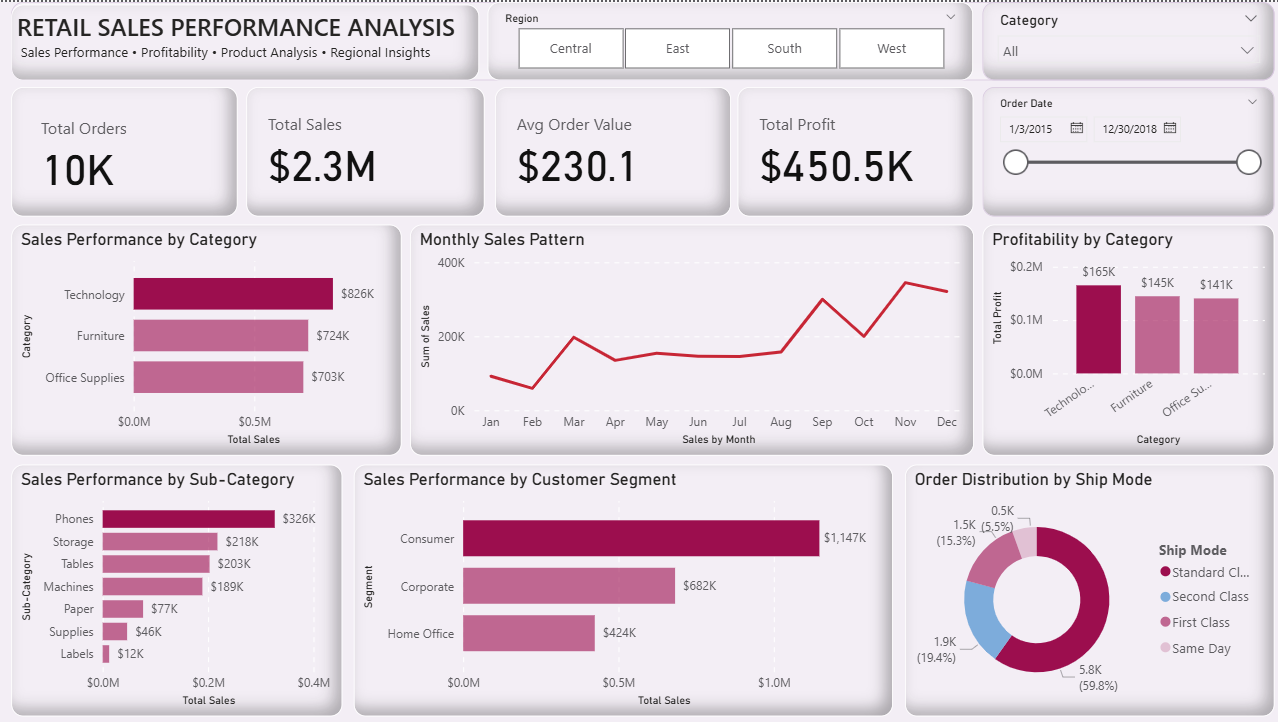

What the dashboard file says about the page in this screenshot:
{"tool":"powerbi","page":{"name":"Sales Overview","canvas":[1280,720],"ordinal":0},"visuals":[{"type":"clusteredBarChart","title":"Sales Performance by Category","fields":{"Category":["Cleaned_Data.Category"],"Y":["Cleaned_Data.Total Sales"]},"box":[11,222.6,390.1,231.1],"z":1000},{"type":"lineChart","title":"Monthly Sales Pattern","fields":{"Category":["Cleaned_Data.Sales by Month"],"Y":["Sum(Cleaned_Data.Sales)"]},"box":[409.6,222.6,563.7,231],"z":2000},{"type":"cardVisual","fields":{"Data":["Cleaned_Data.Total Sales"]},"box":[245.8,84.4,238.5,129.6],"z":3000},{"type":"cardVisual","fields":{"Data":["Cleaned_Data.Total Profit"]},"box":[737.4,84.4,236,129.6],"z":4000},{"type":"cardVisual","fields":{"Data":["Cleaned_Data.Orders"]},"box":[11,84.4,226.2,129.6],"z":5000},{"type":"cardVisual","fields":{"Data":["Cleaned_Data.Avg Order Value"]},"box":[495.2,84.4,236,129.6],"z":6000},{"type":"clusteredBarChart","title":"Sales Performance by Customer Segment","fields":{"Category":["Cleaned_Data.Segment"],"Y":["Cleaned_Data.Total Sales"]},"box":[353.4,462.2,539.3,251.9],"z":8000},{"type":"clusteredColumnChart","title":"Profitability by Category","fields":{"Category":["Cleaned_Data.Category"],"Y":["Cleaned_Data.Total Profit"]},"box":[981.9,222.6,292.3,231.1],"z":10000},{"type":"clusteredBarChart","title":"Sales Performance by Sub-Category","fields":{"Category":["Cleaned_Data.Sub-Category"],"Y":["Cleaned_Data.Total Sales"]},"box":[11,462.2,331.4,251.9],"z":11000},{"type":"shape","box":[11,0,1263.2,78.3],"z":12000},{"type":"textbox","box":[11,2.4,468.3,75.8],"z":13000},{"type":"slicer","fields":{"Values":["Cleaned_Data.Region"]},"box":[487.9,0,485.5,78.3],"z":14000},{"type":"slicer","fields":{"Values":["Cleaned_Data.Category"]},"box":[981.9,0,292.3,78.3],"z":14001},{"type":"slicer","fields":{"Values":["Cleaned_Data.Order Date"]},"box":[981.9,84.4,292.3,129.6],"z":14002},{"type":"donutChart","title":"Order Distribution by Ship Mode","fields":{"Category":["Cleaned_Data.Ship Mode"],"Y":["CountNonNull(Cleaned_Data.Order ID)"]},"box":[904.9,462.2,369.3,251.9],"z":14003}]}

Visuals, with their boxes in screenshot pixels (x1, y1, x2, y2), scaled from the page's 1280x720 canvas onto the 1278x722 screenshot:
"Sales Performance by Category" clusteredBarChart: locate(11, 223, 400, 455)
"Monthly Sales Pattern" lineChart: locate(409, 223, 972, 455)
cardVisual - Cleaned_Data.Total Sales: locate(245, 85, 484, 215)
cardVisual - Cleaned_Data.Total Profit: locate(736, 85, 972, 215)
cardVisual - Cleaned_Data.Orders: locate(11, 85, 237, 215)
cardVisual - Cleaned_Data.Avg Order Value: locate(494, 85, 730, 215)
"Sales Performance by Customer Segment" clusteredBarChart: locate(353, 463, 891, 716)
"Profitability by Category" clusteredColumnChart: locate(980, 223, 1272, 455)
"Sales Performance by Sub-Category" clusteredBarChart: locate(11, 463, 342, 716)
shape: locate(11, 0, 1272, 79)
textbox: locate(11, 2, 479, 78)
slicer - Cleaned_Data.Region: locate(487, 0, 972, 79)
slicer - Cleaned_Data.Category: locate(980, 0, 1272, 79)
slicer - Cleaned_Data.Order Date: locate(980, 85, 1272, 215)
"Order Distribution by Ship Mode" donutChart: locate(903, 463, 1272, 716)
